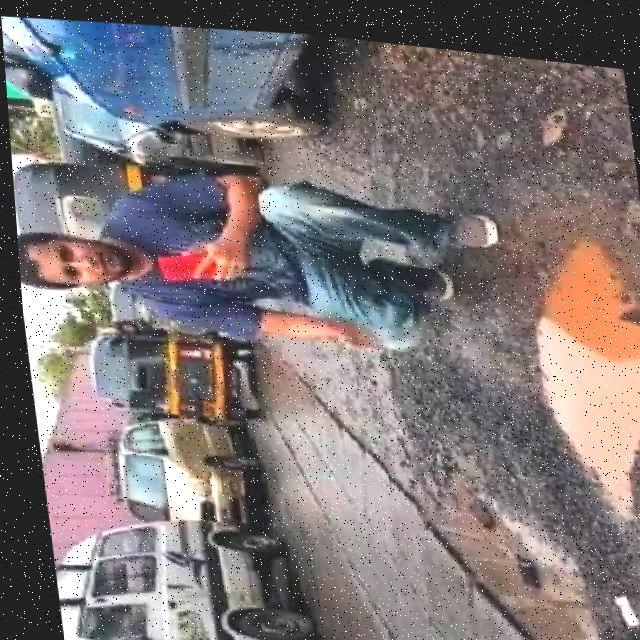pothole: (504, 210, 640, 518), (405, 447, 601, 640)
